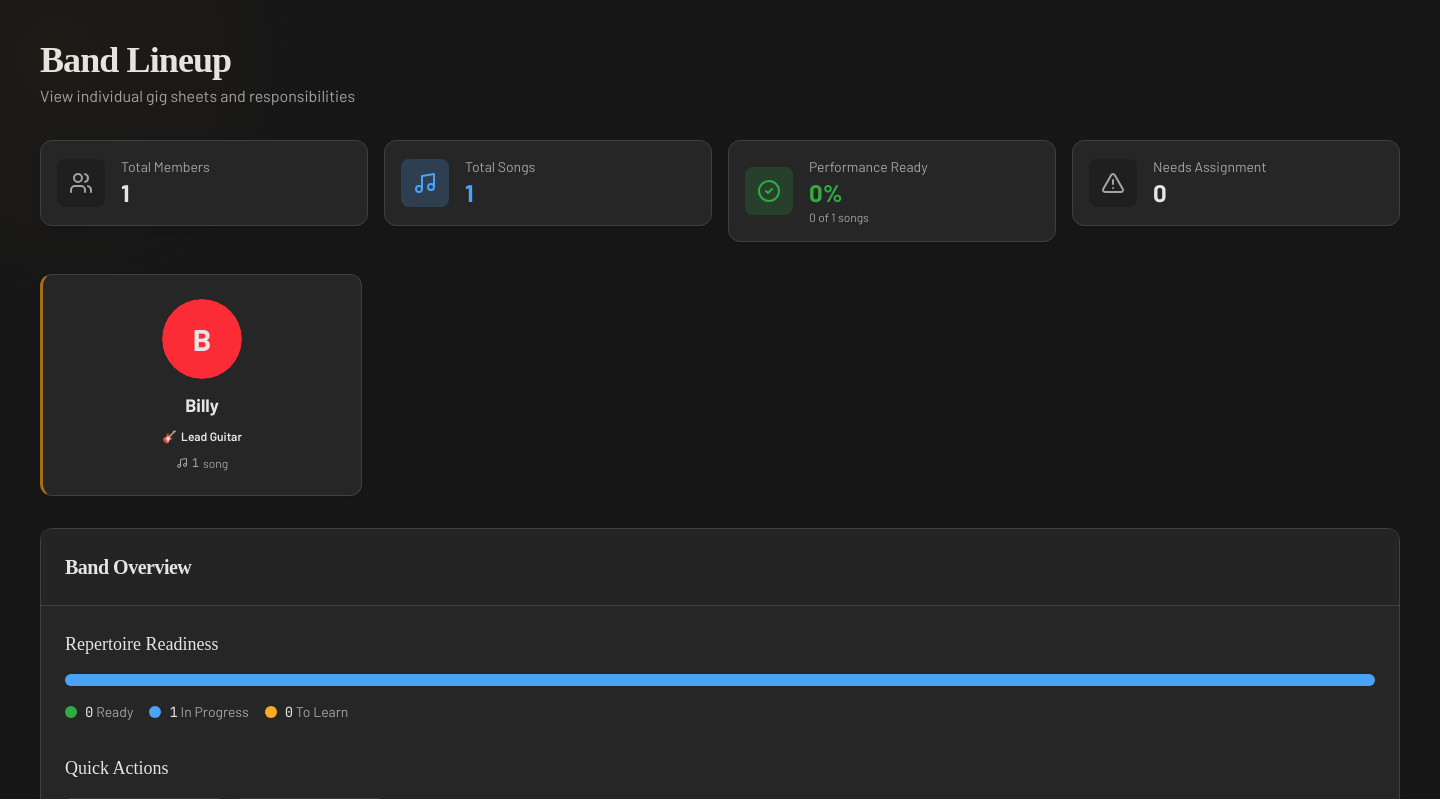
Test: BandDashboard › member selection › shows Gig Sheet when member is selected
# Click on Billy's card
What coordinates should you click on to do the following:
click the button with aria-label "Select Billy"
I would click on:
 (202, 339)
Its box is [40,274,362,496].
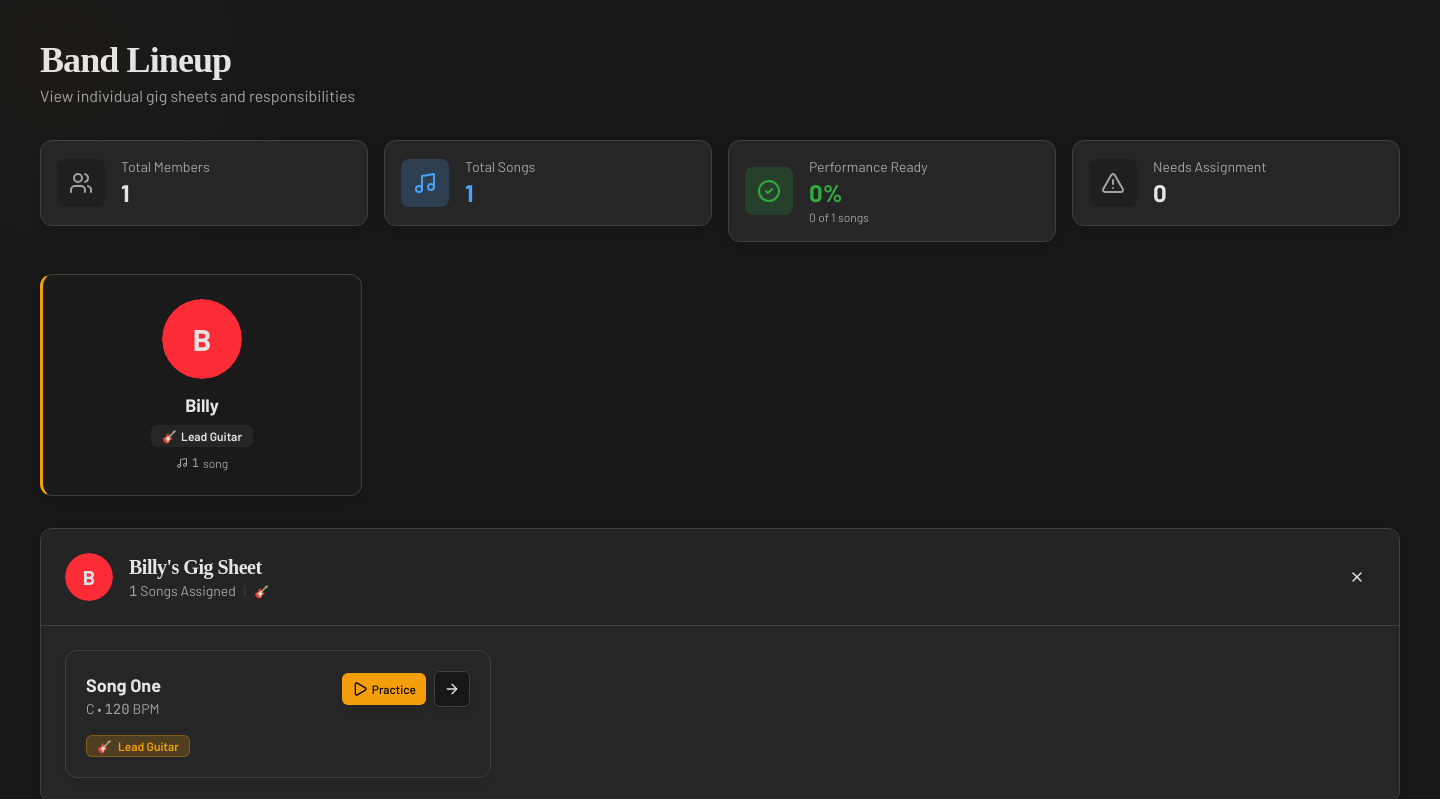
Result: the heading "Billy's Gig Sheet" is shown at [129,553,269,581]
